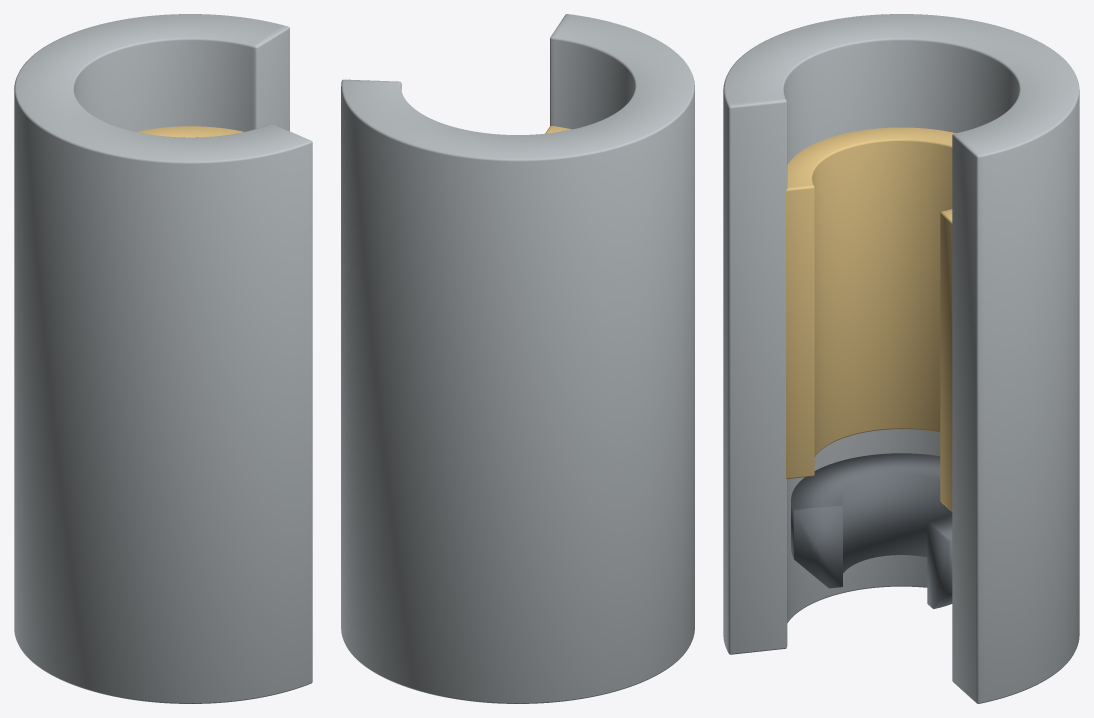
The model's file is stage-tool.glb.
3 views of the same model, side by side, from view 1: azimuth 30°, elevation 25°; view 2: azimuth 150°, elevation 25°; view 3: azimuth 270°, elevation 25° (orthographic).
Visible parts, largest first — view 1: Stage tool body, Shift sleeve; view 2: Stage tool body; view 3: Stage tool body, Shift sleeve, Opening seat.
Part boxes in pixels (x1,y1,x2,y2): Stage tool body: (14, 14, 312, 703); Shift sleeve: (137, 126, 243, 137); Stage tool body: (341, 14, 694, 703); Stage tool body: (723, 14, 1079, 703); Shift sleeve: (786, 127, 955, 511); Opening seat: (791, 453, 952, 608).
Bounding box in the file's own units: 1.9 × 3.4 × 2.
